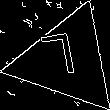L_S: (46, 33, 88, 88)
